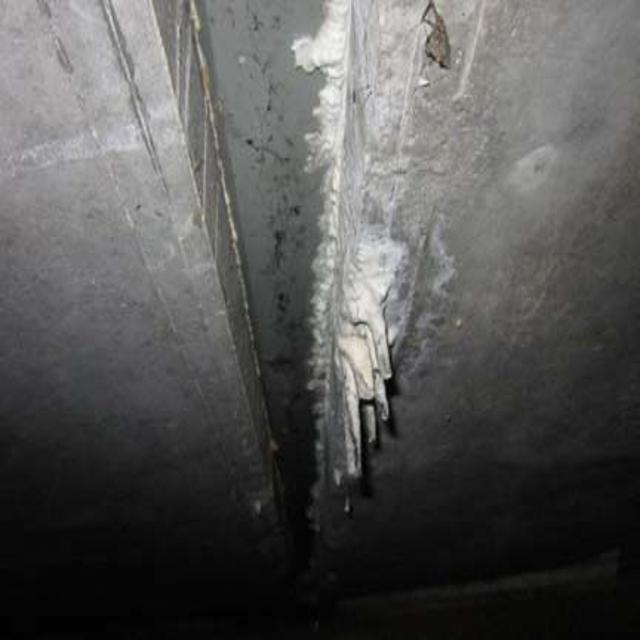freelime: (296, 11, 421, 516)
